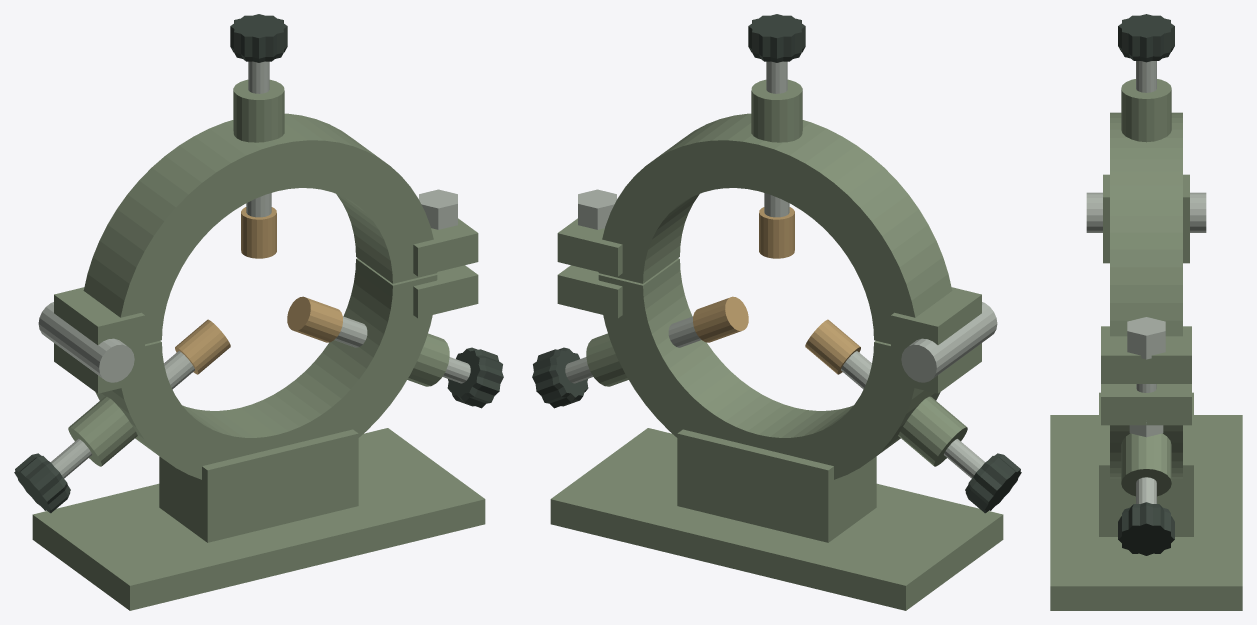
The picture shows the model from 3 angles, left to right: view 1: azimuth 30°, elevation 25°; view 2: azimuth 150°, elevation 25°; view 3: azimuth 270°, elevation 25°; orthographic projection.
Visible parts, largest first — view 1: WholeBroadMountingSole, WholeUpperSemicircularCasting, WholeLowerSemicircularCasting, WholeShortCastingPedestal, WholeLeftHingeBridge, WholeLeftProudHingePin, WholeRadialGuideBarrel0, WholeRadialGuideBarrel1, WholeRightUpperLatchEar, WholeRightLowerLatchEar, WholeFlutedRadialAdjusterKnob0, WholeFlutedRadialAdjusterKnob2 (+10 smaller); view 2: WholeBroadMountingSole, WholeUpperSemicircularCasting, WholeLowerSemicircularCasting, WholeShortCastingPedestal, WholeLeftHingeBridge, WholeLeftProudHingePin, WholeRadialGuideBarrel0, WholeRadialGuideBarrel1, WholeRightUpperLatchEar, WholeRightLowerLatchEar, WholeFlutedRadialAdjusterKnob0, WholeFlutedRadialAdjusterKnob2 (+10 smaller); view 3: WholeBroadMountingSole, WholeUpperSemicircularCasting, WholeShortCastingPedestal, WholeRightUpperLatchEar, WholeRightLowerLatchEar, WholeRadialGuideBarrel0, WholeRadialGuideBarrel2, WholeFlutedRadialAdjusterKnob2, WholeFlutedRadialAdjusterKnob0, WholeLowerSemicircularCasting, WholeUpperLatchHead, WholeLeftProudHingePin (+4 smaller).
Boxes of the visible parts, x1,y1,x2,y2 form: WholeBroadMountingSole: (32, 428, 485, 610); WholeUpperSemicircularCasting: (83, 113, 437, 344); WholeLowerSemicircularCasting: (95, 258, 437, 479); WholeShortCastingPedestal: (159, 429, 358, 542); WholeLeftHingeBridge: (54, 287, 144, 393); WholeLeftProudHingePin: (38, 302, 134, 382); WholeRadialGuideBarrel0: (233, 79, 284, 142); WholeRadialGuideBarrel1: (68, 396, 137, 466); WholeRightUpperLatchEar: (413, 218, 478, 276); WholeRightLowerLatchEar: (413, 265, 478, 318); WholeFlutedRadialAdjusterKnob0: (230, 14, 287, 62); WholeFlutedRadialAdjusterKnob2: (447, 347, 503, 408); WholeBroadMountingSole: (550, 428, 1003, 610); WholeUpperSemicircularCasting: (598, 113, 952, 344); WholeLowerSemicircularCasting: (598, 258, 940, 479); WholeShortCastingPedestal: (677, 429, 876, 542); WholeLeftHingeBridge: (891, 287, 981, 393); WholeLeftProudHingePin: (901, 302, 997, 382); WholeRadialGuideBarrel0: (751, 79, 802, 142); WholeRadialGuideBarrel1: (898, 396, 967, 466); WholeRightUpperLatchEar: (557, 218, 622, 276); WholeRightLowerLatchEar: (557, 265, 622, 318); WholeFlutedRadialAdjusterKnob0: (748, 14, 805, 62); WholeFlutedRadialAdjusterKnob2: (532, 347, 588, 408); WholeBroadMountingSole: (1050, 415, 1242, 610); WholeUpperSemicircularCasting: (1110, 112, 1182, 336); WholeShortCastingPedestal: (1099, 392, 1193, 536); WholeRightUpperLatchEar: (1101, 326, 1191, 383); WholeRightLowerLatchEar: (1101, 384, 1191, 425); WholeRadialGuideBarrel0: (1121, 79, 1171, 142); WholeRadialGuideBarrel2: (1121, 433, 1171, 496); WholeFlutedRadialAdjusterKnob2: (1118, 502, 1174, 555); WholeFlutedRadialAdjusterKnob0: (1118, 14, 1174, 62); WholeLowerSemicircularCasting: (1110, 425, 1182, 478); WholeUpperLatchHead: (1127, 317, 1165, 359); WholeLeftProudHingePin: (1086, 192, 1206, 232).
Bounding box in the file's own units: 0.5372 × 0.544 × 0.19.
